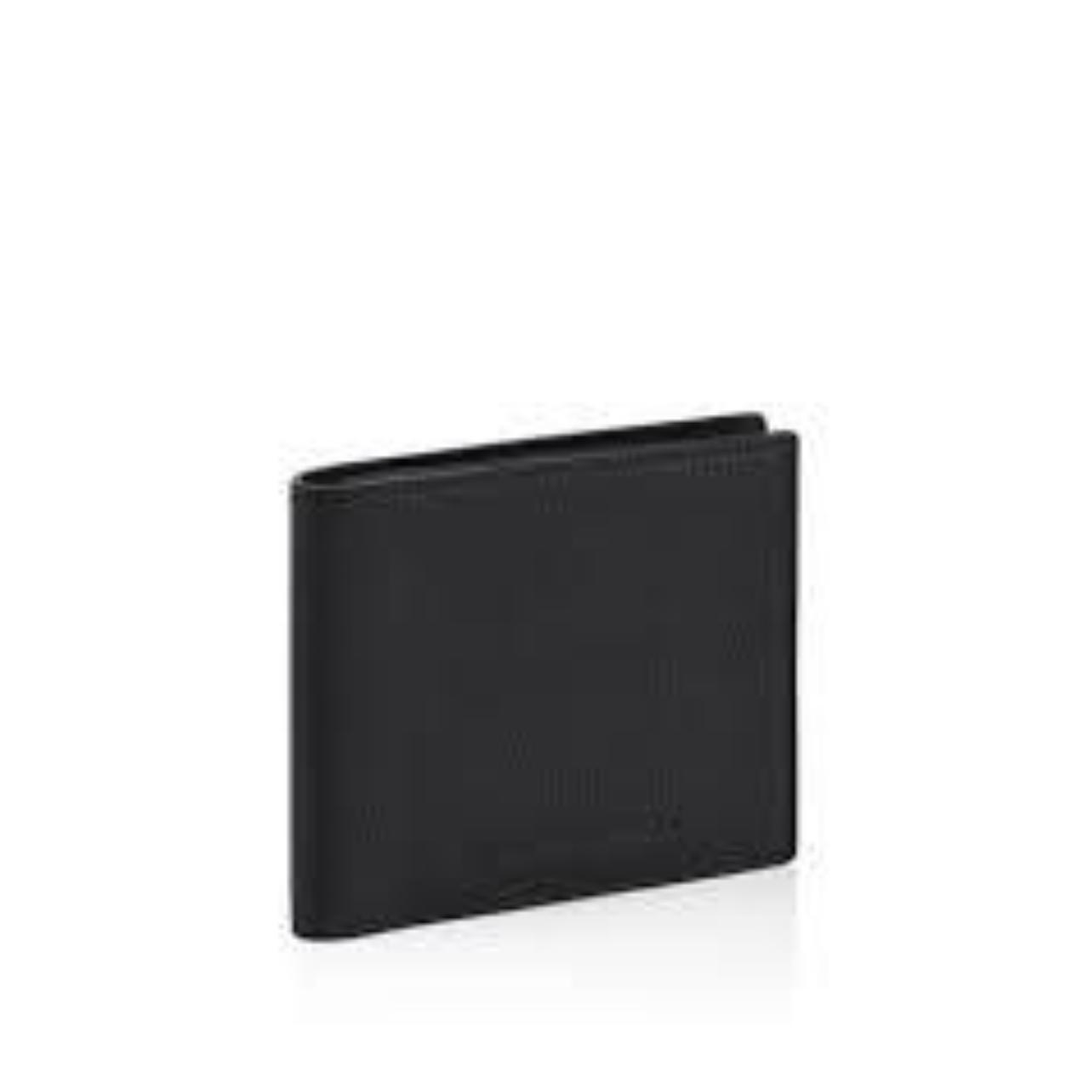wallet: (247, 422, 896, 924)
